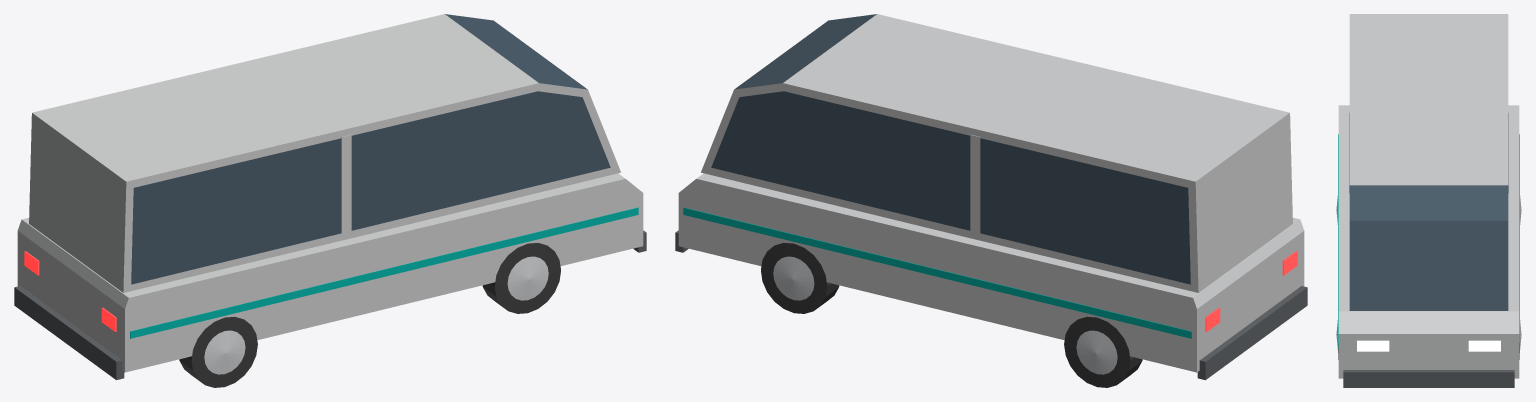
File: nexfleet-minibus.glb
The picture shows the model from 3 angles, left to right: view 1: azimuth 30°, elevation 25°; view 2: azimuth 150°, elevation 25°; view 3: azimuth 270°, elevation 25°; orthographic projection. The views are drawn at different scales.
Visible parts, largest first — view 1: NexFleet minibus; view 2: NexFleet minibus; view 3: NexFleet minibus.
Boxes of the visible parts, <box> form: NexFleet minibus: <box>14,14,646,387</box>; NexFleet minibus: <box>675,14,1307,387</box>; NexFleet minibus: <box>1336,14,1521,387</box>.
Bounding box in the file's own units: 5.42 × 2.18 × 1.95.
